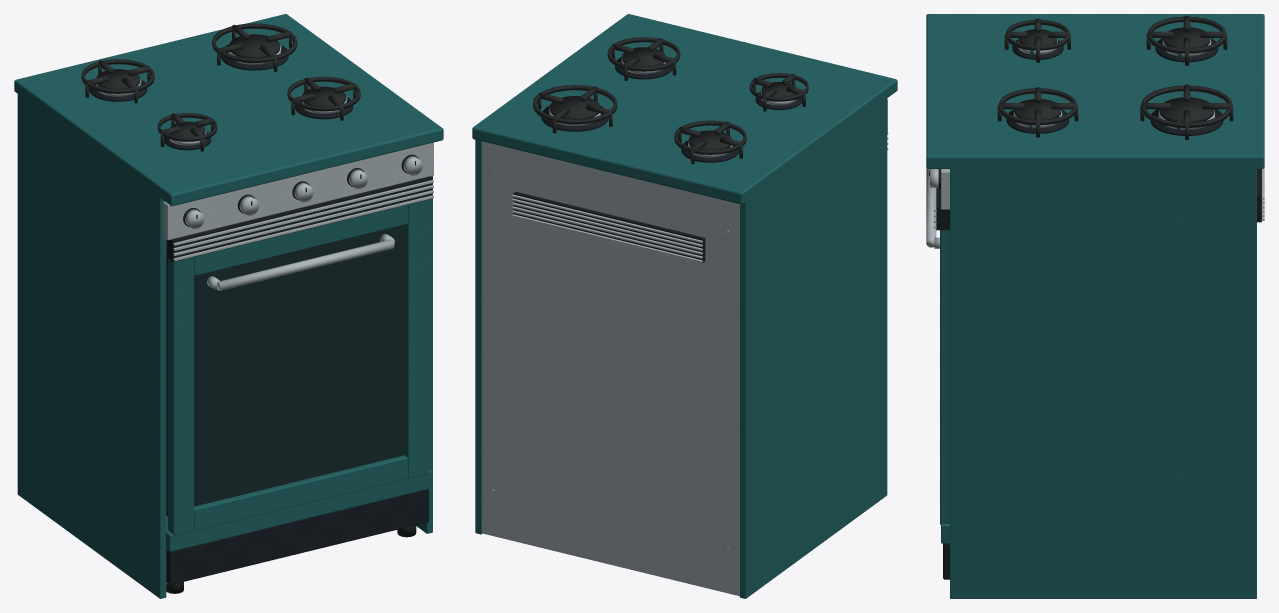
Rendered from prepared.glb.
The picture shows the model from 3 angles, left to right: view 1: azimuth 30°, elevation 25°; view 2: azimuth 150°, elevation 25°; view 3: azimuth 270°, elevation 25°; orthographic projection. The views are drawn at different scales.
Visible parts, largest first — view 1: Static, OvenDoor; view 2: Static; view 3: Static, OvenDoor.
Part boxes in pixels (x1,y1,x2,y2): Static: (14, 14, 443, 598); OvenDoor: (166, 200, 431, 551); Static: (472, 14, 897, 598); Static: (926, 14, 1264, 598); OvenDoor: (926, 168, 949, 543).
Size of the model in its own units: 0.6 by 0.9 by 0.6.
6 materials, 5 textured.
